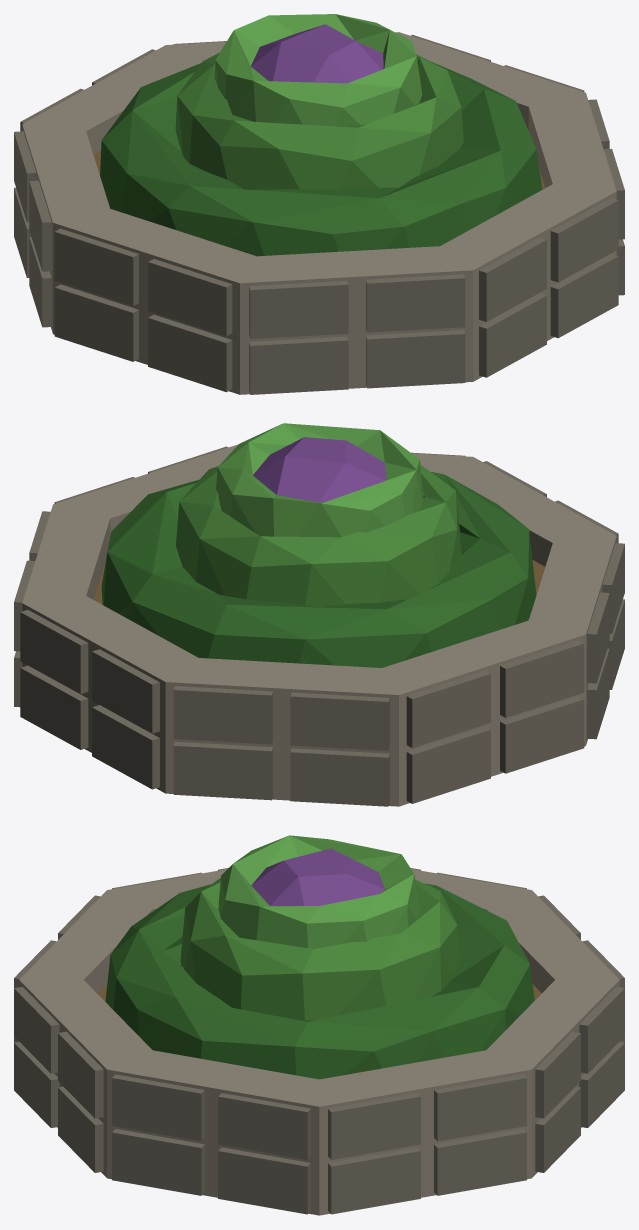
File: FlowerBed_B.fbx
3 renders of one model, top to bottom at view 1: azimuth 30°, elevation 25°; view 2: azimuth 150°, elevation 25°; view 3: azimuth 270°, elevation 25°, orthographic. The views are drawn at different scales.
Parts seen in each view (by area): view 1: FlowerBed_B; view 2: FlowerBed_B; view 3: FlowerBed_B.
Boxes of the visible parts, x1,y1,x2,y2 form: FlowerBed_B: (14, 14, 624, 394); FlowerBed_B: (14, 423, 624, 806); FlowerBed_B: (14, 835, 624, 1215).
Size of the model in its own units: 142 by 57.86 by 142.
